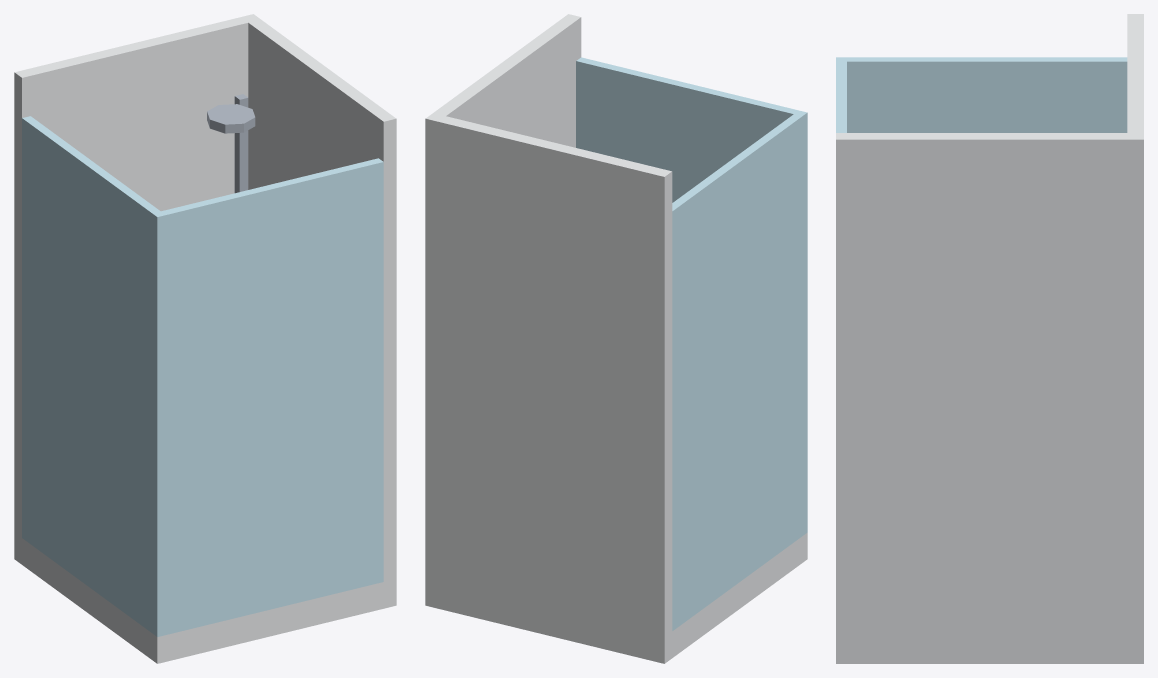
Rendered from shower.glb.
The picture shows the model from 3 angles, left to right: view 1: azimuth 30°, elevation 25°; view 2: azimuth 150°, elevation 25°; view 3: azimuth 270°, elevation 25°; orthographic projection. The views are drawn at different scales.
Visible parts, largest first — view 1: shower; view 2: shower; view 3: shower.
Boxes of the visible parts, bbox=[...] form: shower: bbox=[14, 14, 396, 663]; shower: bbox=[425, 14, 807, 663]; shower: bbox=[836, 14, 1143, 663].
Size of the model in its own units: 0.56 by 1.09 by 0.58.
1 material, 1 textured.
